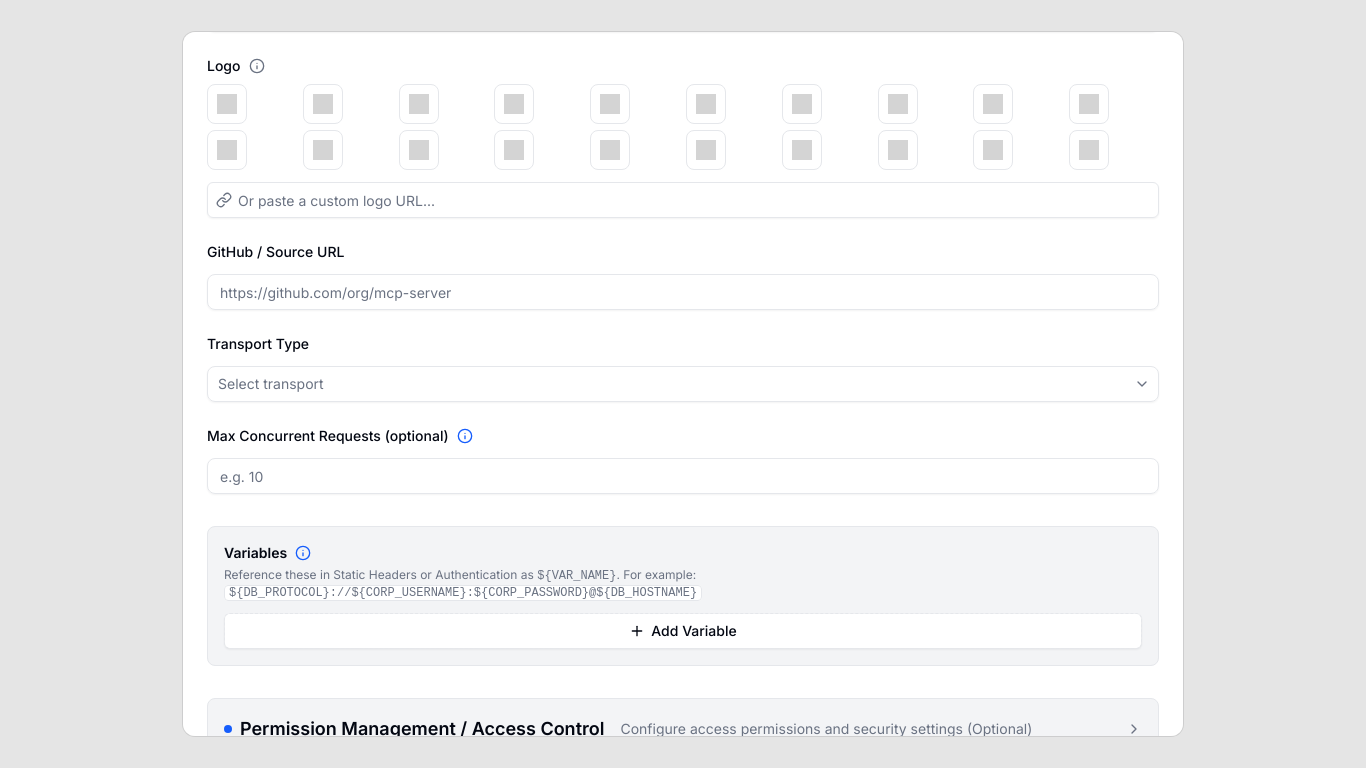
Test: CreateMCPServer › should show transport type options
The width and height of the screenshot is (1366, 768).
(page scrolled)
Click the dropdown named "Transport Type". click: (271, 384)
box: [207,366,1159,402]
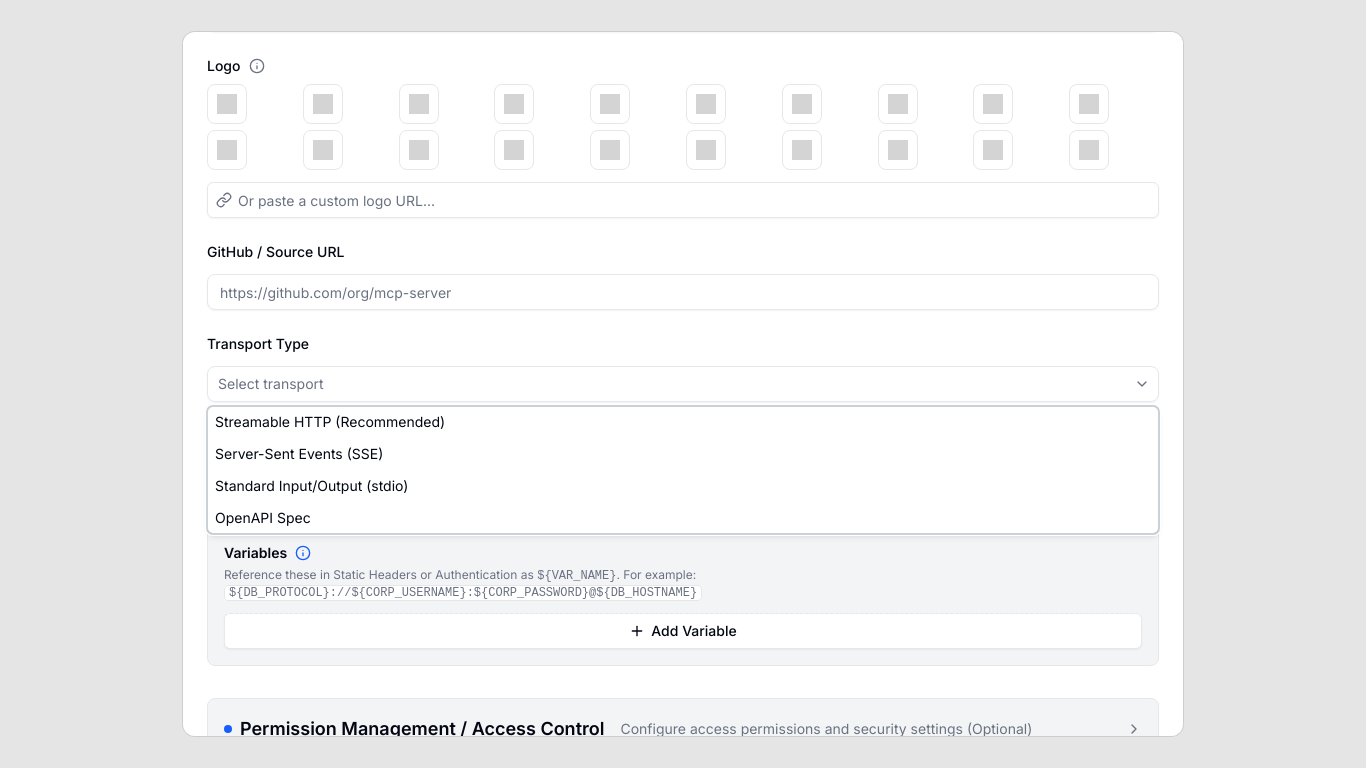
Now the option "Streamable HTTP (Recommended)" is shown
Click the option "Streamable HTTP (Recommended)". click: (330, 422)
box: [215,413,445,430]
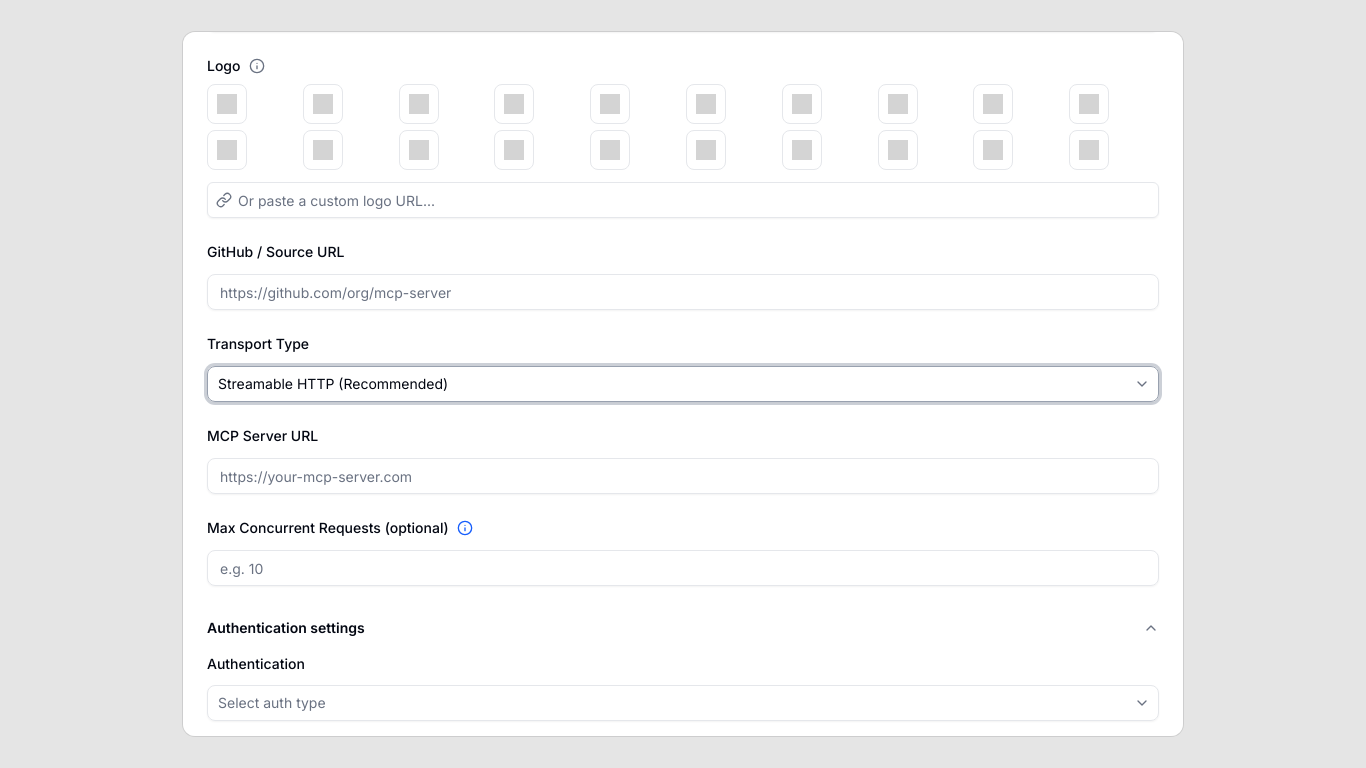
Now the field with placeholder "https://your-mcp-server.com" is shown, box [207,458,1159,494]
